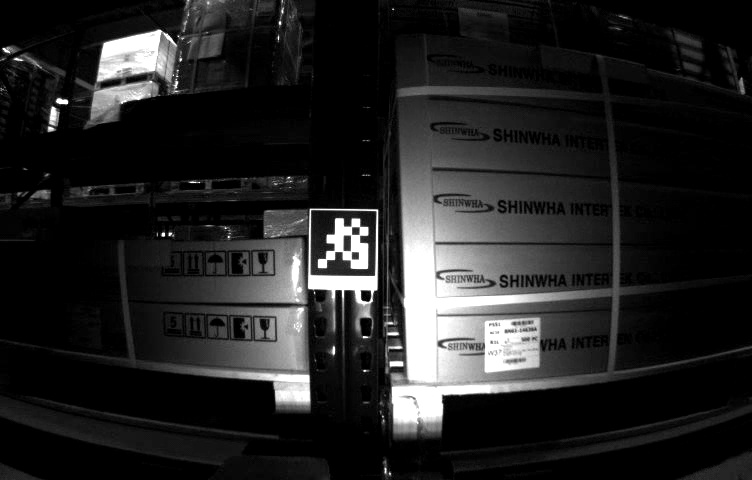True Barcode: (485, 319, 542, 368), (61, 308, 101, 349)
